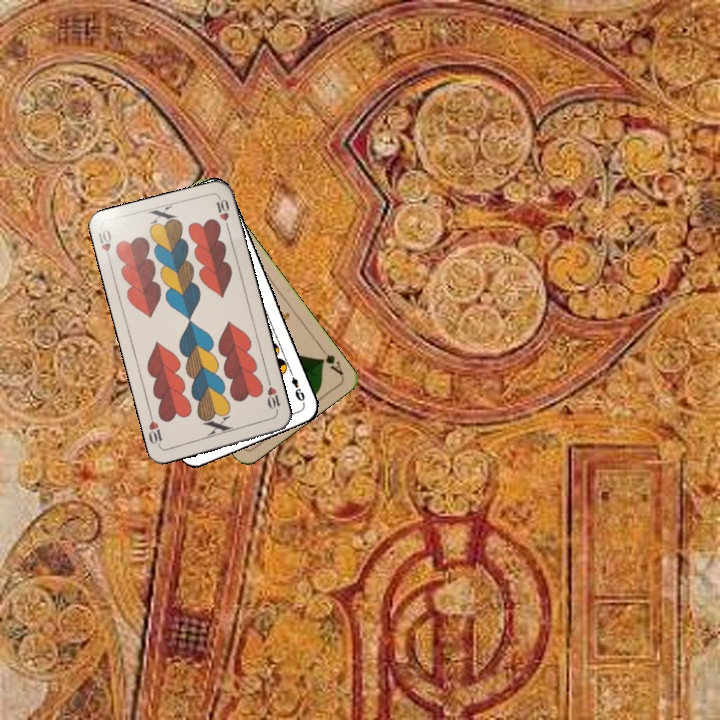E9: (285, 366, 308, 404)
GA: (316, 343, 346, 378)
H10: (94, 225, 114, 266), (263, 377, 283, 417)
